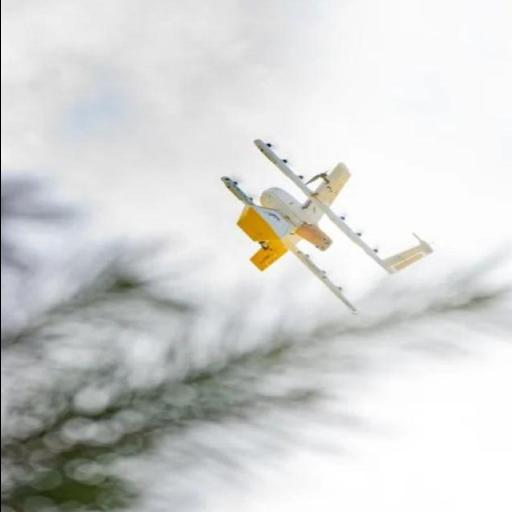uav: (214, 132, 440, 317)
